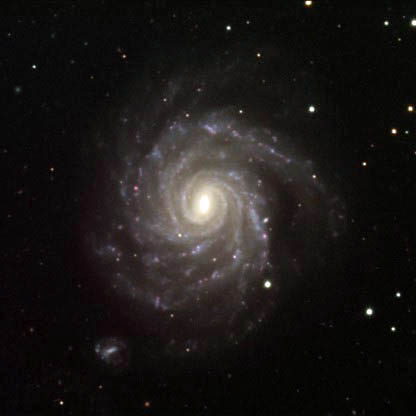NGC 1232: (74, 75, 352, 375)
